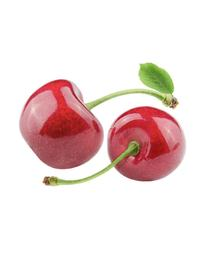cherry: (18, 80, 104, 170), (106, 105, 186, 182)
